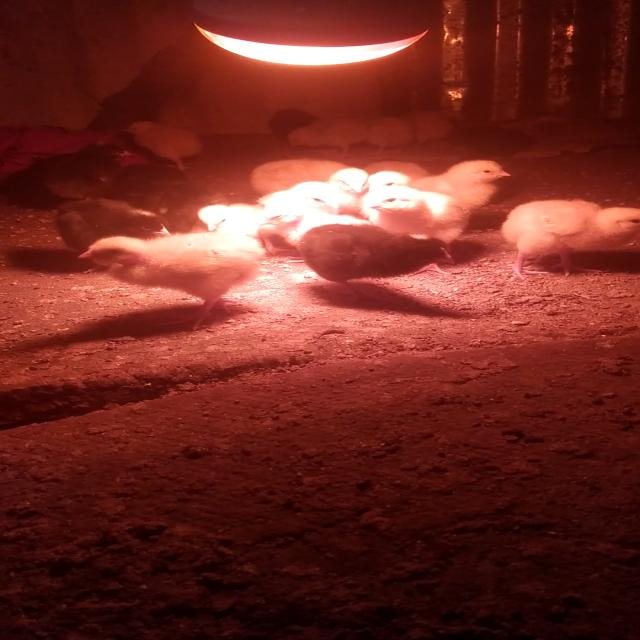chick: (74, 232, 266, 329), (300, 222, 458, 306), (500, 201, 640, 279), (54, 197, 178, 273), (371, 188, 470, 255), (33, 142, 134, 202), (414, 158, 513, 212), (248, 159, 368, 197), (120, 121, 213, 169), (257, 180, 350, 218), (286, 115, 370, 156), (193, 204, 268, 240), (358, 116, 418, 154), (269, 106, 322, 141), (408, 112, 454, 146)
objects: (184, 0, 451, 67)
